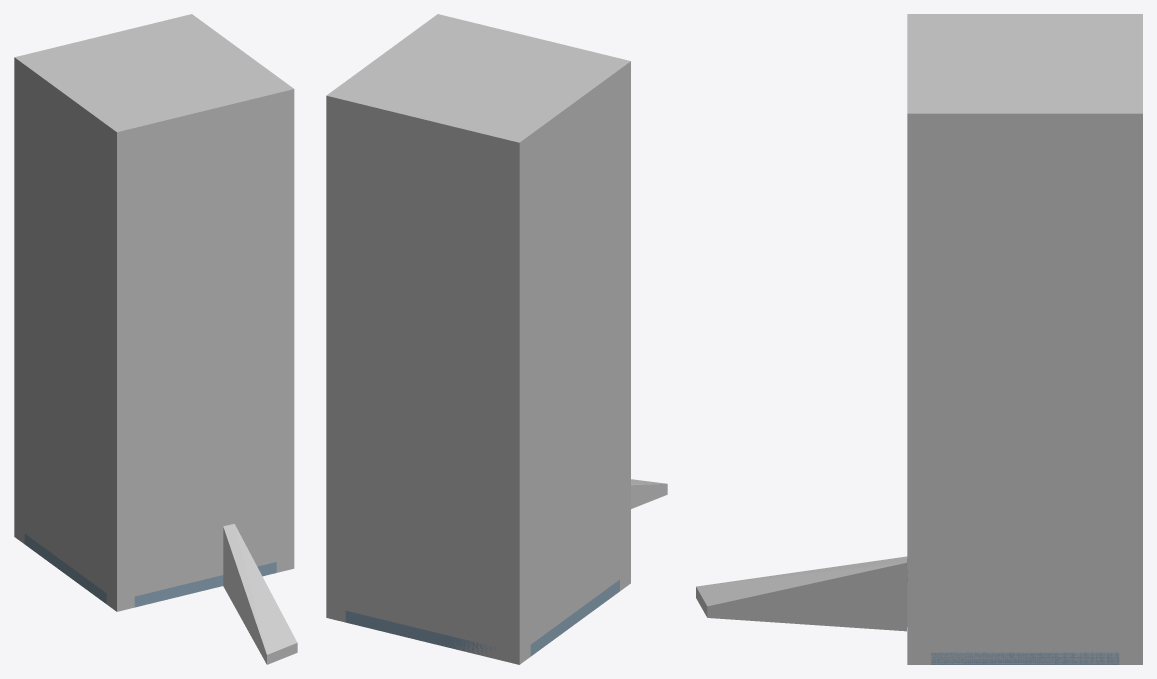
The model's file is SM_Car_Battery.fbx.
The picture shows the model from 3 angles, left to right: view 1: azimuth 30°, elevation 25°; view 2: azimuth 150°, elevation 25°; view 3: azimuth 270°, elevation 25°; orthographic projection. The views are drawn at different scales.
Visible parts, largest first — view 1: SM_Car_Battery_ConvexHulls, SM_Car_Battery; view 2: SM_Car_Battery_ConvexHulls, SM_Car_Battery; view 3: SM_Car_Battery_ConvexHulls, SM_Car_Battery.
Part boxes in pixels (<box>): SM_Car_Battery_ConvexHulls: <box>14,14,297,664</box>; SM_Car_Battery: <box>24,534,276,607</box>; SM_Car_Battery_ConvexHulls: <box>326,14,667,664</box>; SM_Car_Battery: <box>345,579,619,657</box>; SM_Car_Battery_ConvexHulls: <box>696,14,1142,664</box>; SM_Car_Battery: <box>907,571,1119,664</box>.
Bounding box in the file's own units: 157 × 297 × 406.
Materials: 2 (1 with a texture image).
